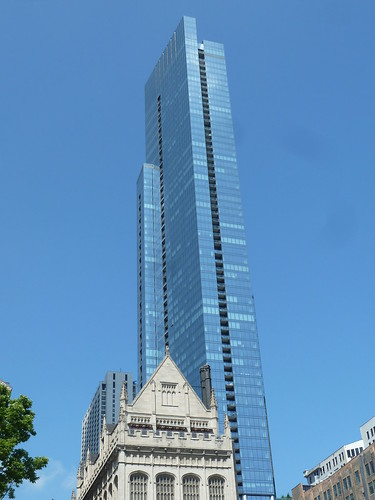low: (128, 15, 280, 500)
